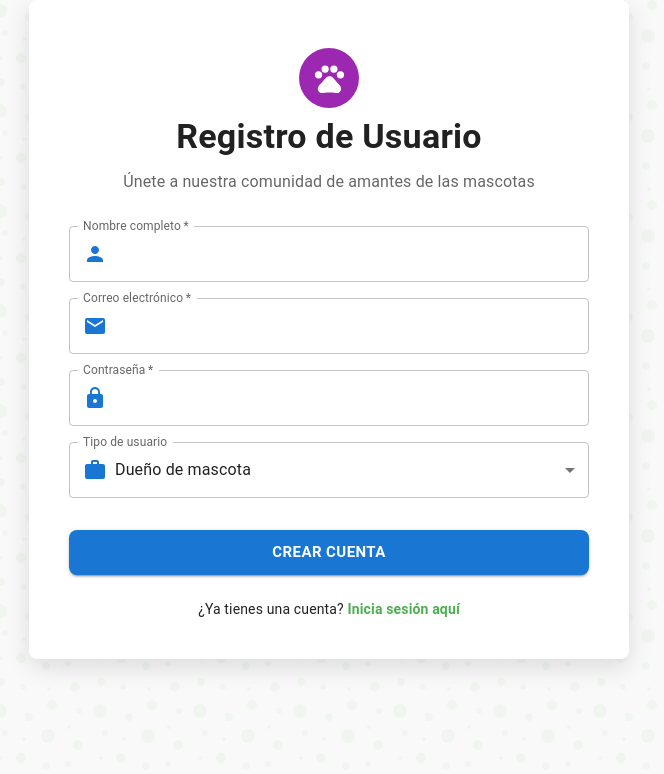
it: RegisterPage Component › should submit form with correct data and show success message
Step 1. Type "John Doe" into the field labelled "Nombre completo *" → (352, 254), box [115, 226, 589, 282]
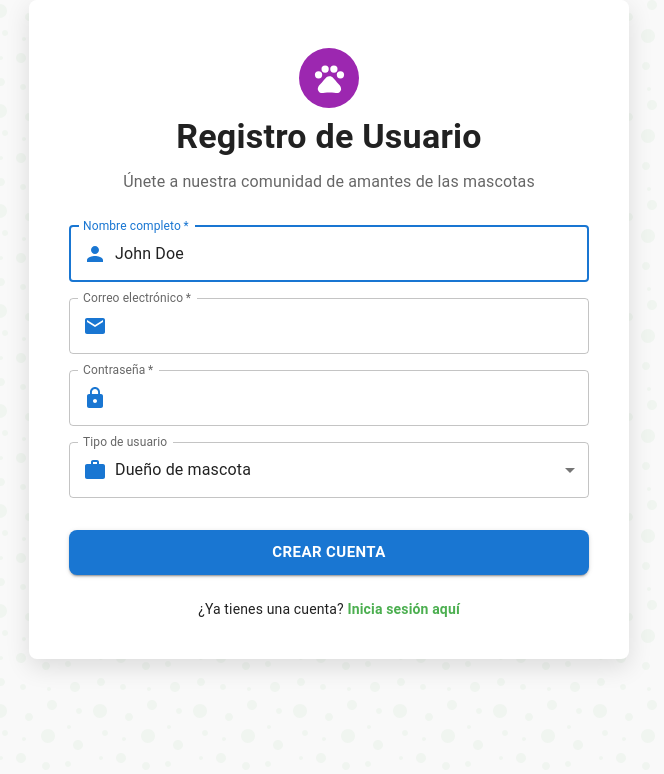
Step 2. Type "john@example.com" into the field labelled "Correo electrónico *" → (352, 326), box [115, 298, 589, 354]
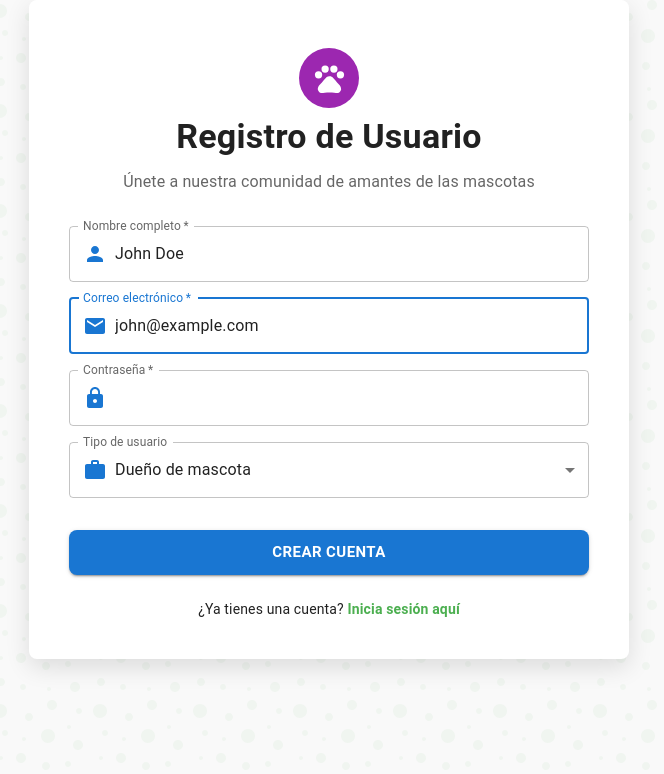
Step 3. Type "password123" into the password field labelled "Contraseña *" → (352, 398), box [115, 370, 589, 426]
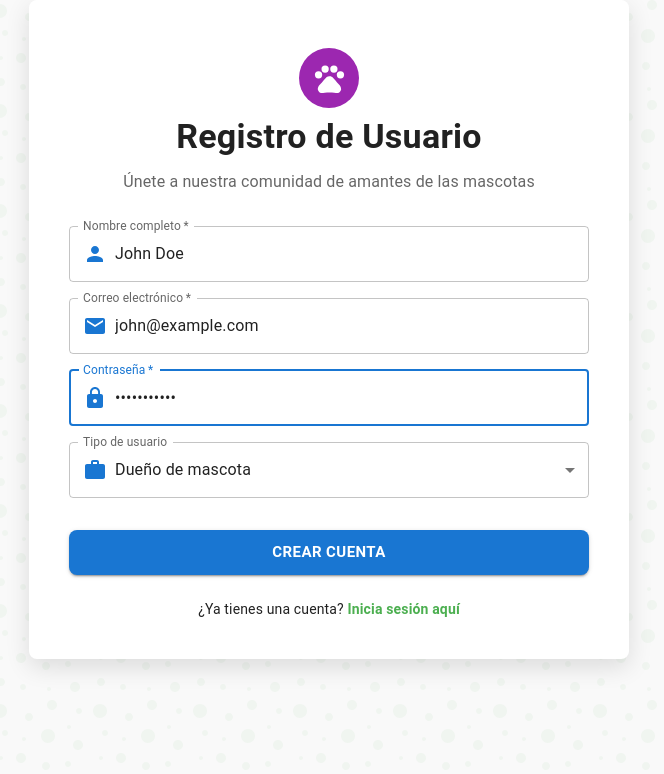
Step 4. Click the button "Crear Cuenta" → (329, 553), box [69, 530, 589, 575]
Wait 2000 ms
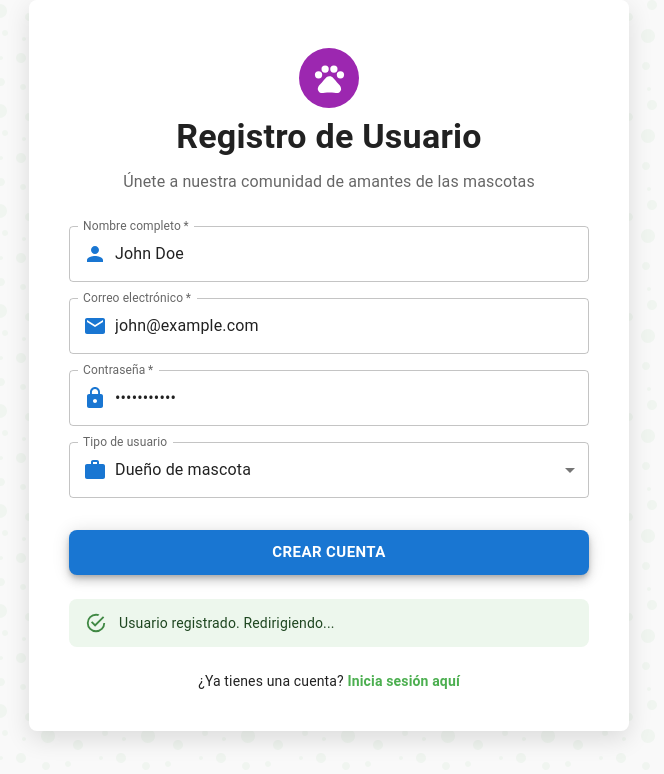
Result: the text "Usuario registrado. Redirigiendo..." is shown at [119, 615, 335, 631]
